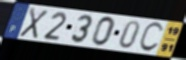0: (90, 16, 119, 47), (118, 20, 140, 50)
2: (42, 11, 67, 42)
3: (70, 13, 94, 44)
C: (137, 22, 165, 54)
X: (18, 6, 50, 40)
